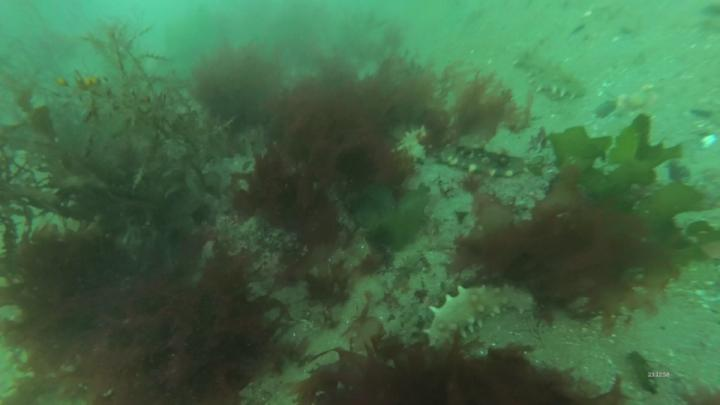holothurian: (418, 280, 535, 352), (432, 137, 531, 184), (518, 55, 590, 101)
waterweeds: (1, 59, 482, 405), (486, 121, 718, 321), (299, 329, 626, 405)
